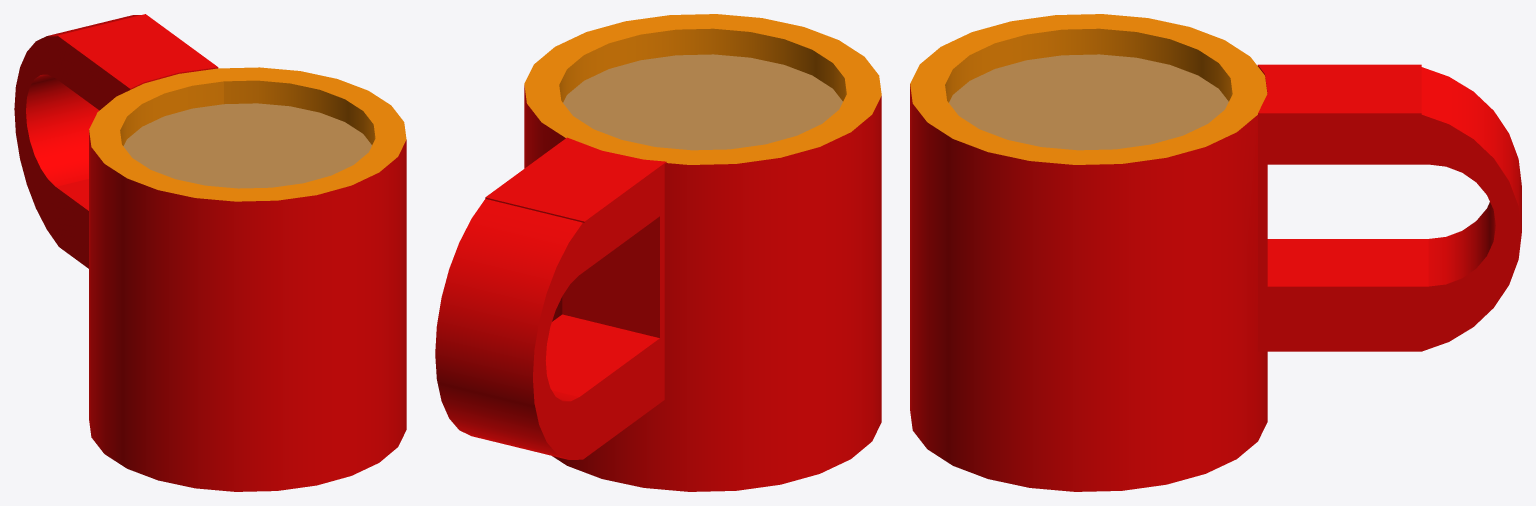
3 renders of one model, left to right at view 1: azimuth 30°, elevation 25°; view 2: azimuth 150°, elevation 25°; view 3: azimuth 270°, elevation 25°, orthographic. The views are drawn at different scales.
Parts seen in each view (by area): view 1: mesh1_mesh1-geometry, mesh1_mesh1-geometry_2, mesh1_mesh1-geometry_3; view 2: mesh1_mesh1-geometry, mesh1_mesh1-geometry_2, mesh1_mesh1-geometry_3; view 3: mesh1_mesh1-geometry, mesh1_mesh1-geometry_2, mesh1_mesh1-geometry_3.
Boxes of the visible parts, box(x1,y1,x2,y2) form: mesh1_mesh1-geometry: box(14, 14, 406, 491); mesh1_mesh1-geometry_2: box(89, 67, 406, 201); mesh1_mesh1-geometry_3: box(123, 103, 371, 188); mesh1_mesh1-geometry: box(435, 85, 881, 491); mesh1_mesh1-geometry_2: box(524, 14, 881, 164); mesh1_mesh1-geometry_3: box(563, 54, 842, 150); mesh1_mesh1-geometry: box(910, 64, 1521, 491); mesh1_mesh1-geometry_2: box(910, 14, 1267, 164); mesh1_mesh1-geometry_3: box(949, 54, 1228, 150).
Size of the model in its own units: 0.4492 by 0.4553 by 0.7687.
